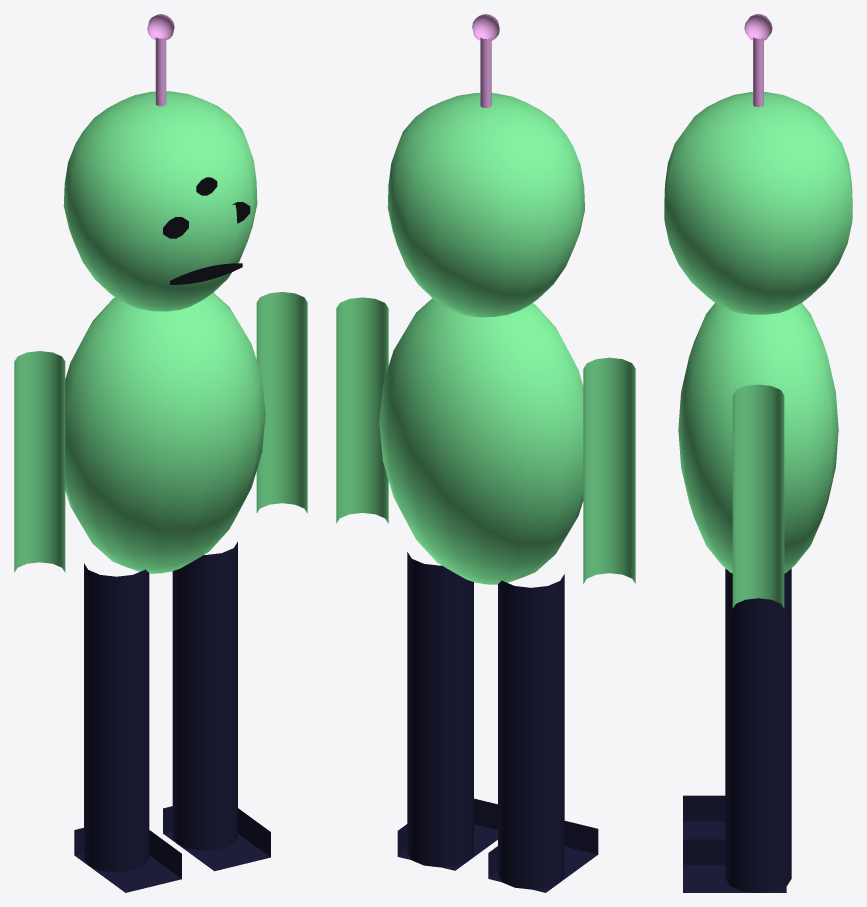
Rendered from agent.zorvex-quillam.glb.
3 views of the same model, side by side, from view 1: azimuth 30°, elevation 25°; view 2: azimuth 150°, elevation 25°; view 3: azimuth 270°, elevation 25° (orthographic).
Visible parts, largest first — view 1: body, legs, head, face, antenna; view 2: body, legs, head, antenna; view 3: body, head, legs, antenna.
Part boxes in pixels (box(x1,y1,x2,y2)): body: box(14, 292, 307, 573); legs: box(74, 542, 270, 892); head: box(63, 91, 257, 311); face: box(163, 177, 250, 284); antenna: box(147, 14, 174, 106); body: box(336, 297, 635, 584); legs: box(397, 552, 598, 892); head: box(387, 93, 584, 317); antenna: box(472, 14, 499, 107); body: box(678, 303, 838, 608); head: box(664, 92, 852, 314); legs: box(683, 568, 791, 892); antenna: box(744, 14, 772, 107).
Size of the model in its own units: 0.7012 by 1.95 by 0.3951.
